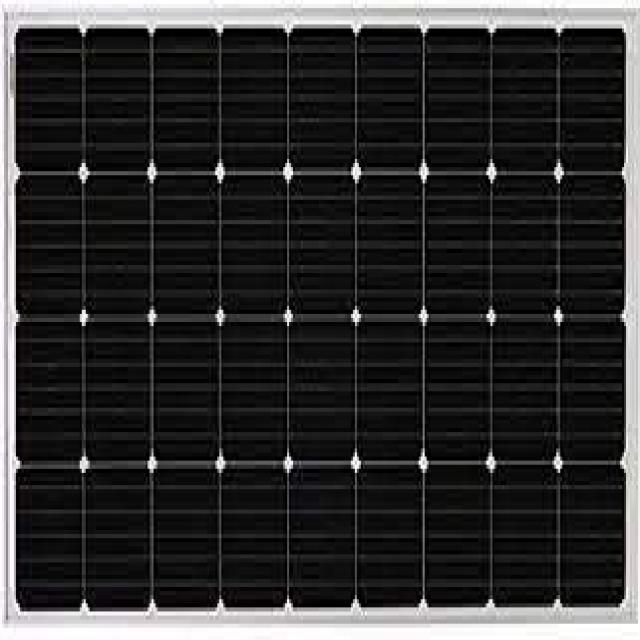no faulty: (17, 26, 628, 603)
